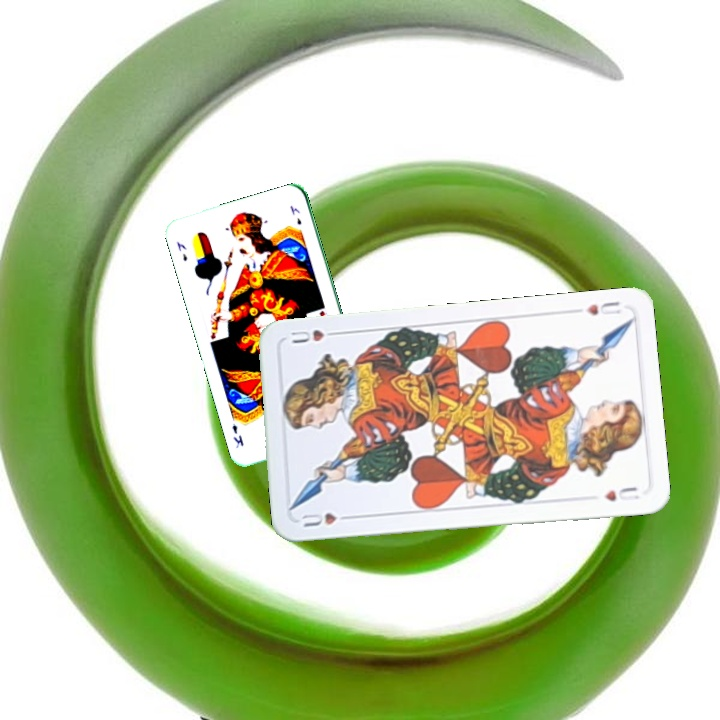EK: (172, 237, 190, 264)
HU: (298, 509, 355, 529), (582, 297, 623, 318)
